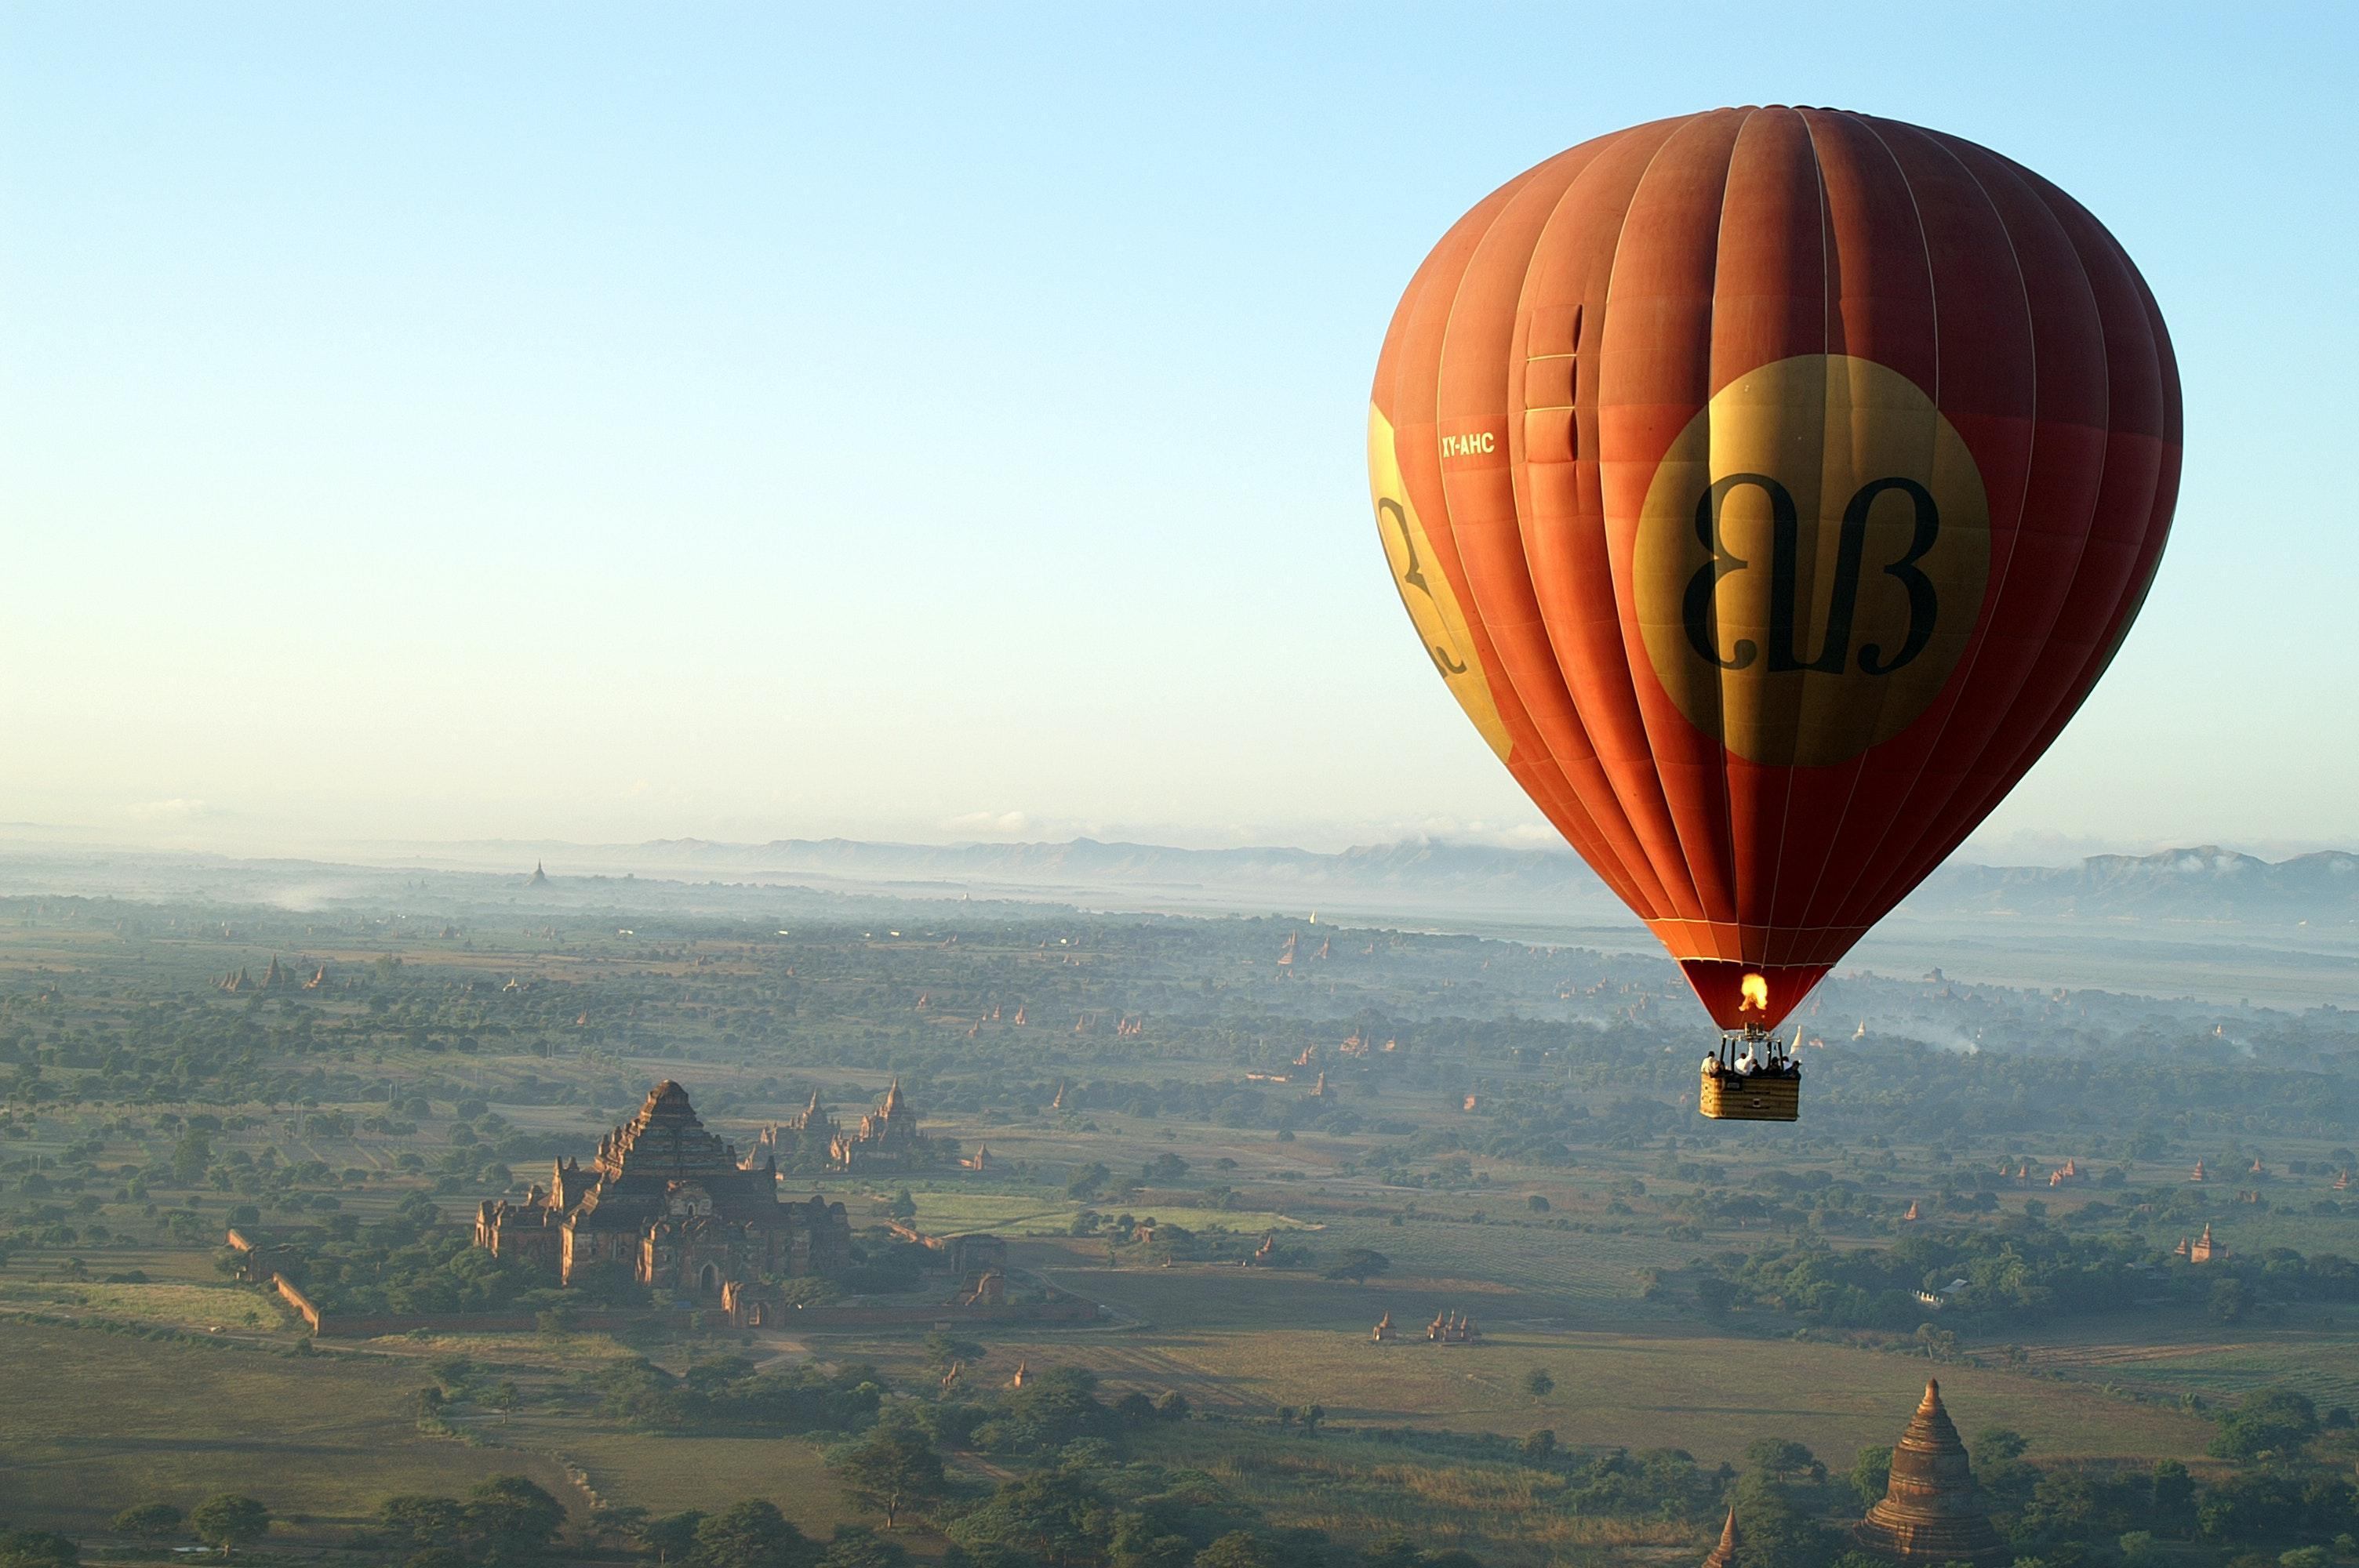hot air ballon: (1368, 105, 2184, 1122)
